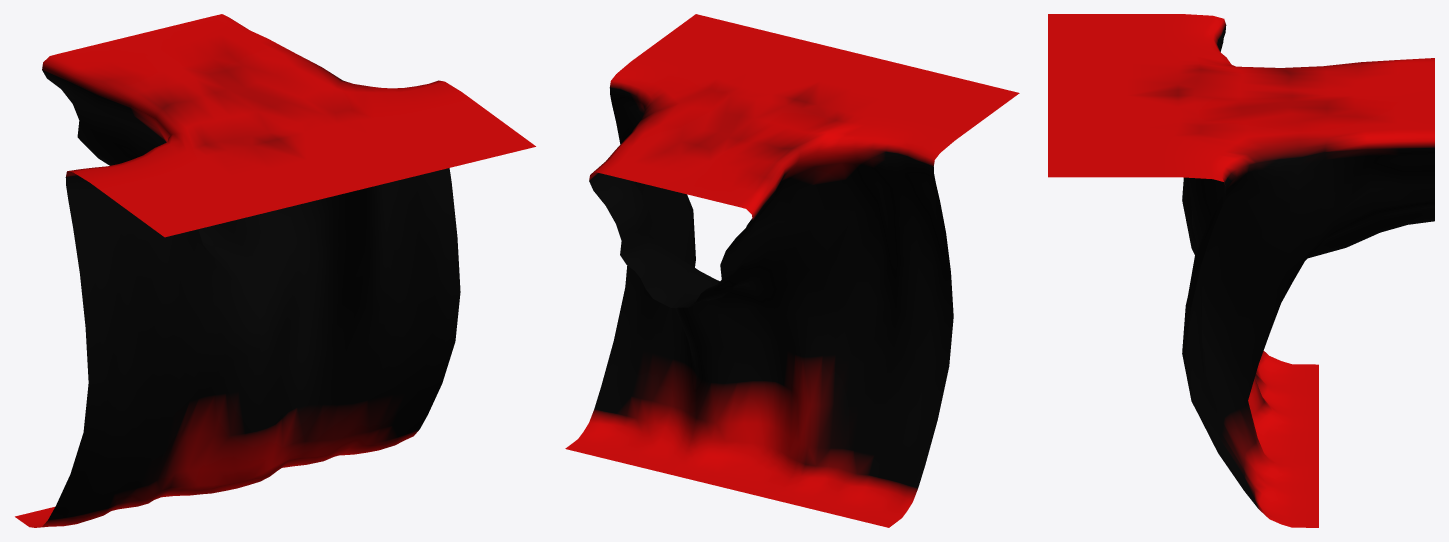
Rendered from CrossingCliff02B 2M Foreground.fbx.
3 renders of one model, left to right at view 1: azimuth 30°, elevation 25°; view 2: azimuth 150°, elevation 25°; view 3: azimuth 270°, elevation 25°, orthographic. The views are drawn at different scales.
Visible parts, largest first — view 1: CrossingCliff02B 2M Foreground; view 2: CrossingCliff02B 2M Foreground; view 3: CrossingCliff02B 2M Foreground.
Boxes of the visible parts, bbox=[...] form: CrossingCliff02B 2M Foreground: bbox=[15, 14, 535, 527]; CrossingCliff02B 2M Foreground: bbox=[565, 14, 1019, 527]; CrossingCliff02B 2M Foreground: bbox=[1048, 14, 1434, 527].
Bounding box in the file's own units: 2 × 2.01 × 2.
